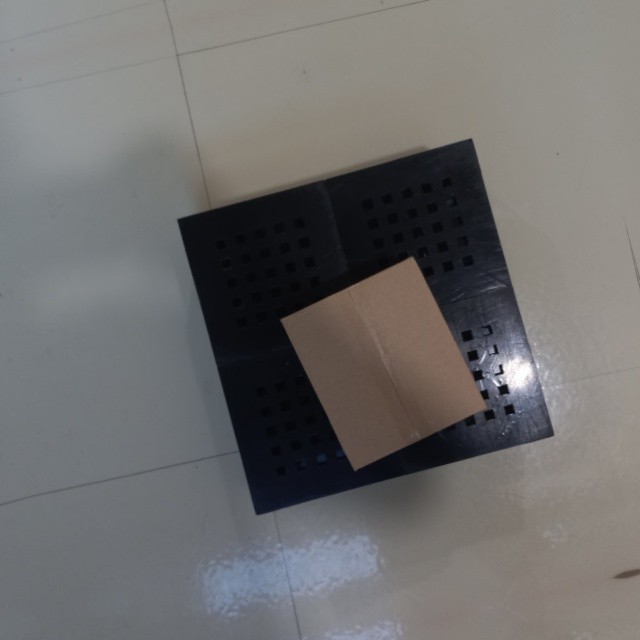box: (278, 248, 481, 479)
pallet: (160, 126, 574, 528)
